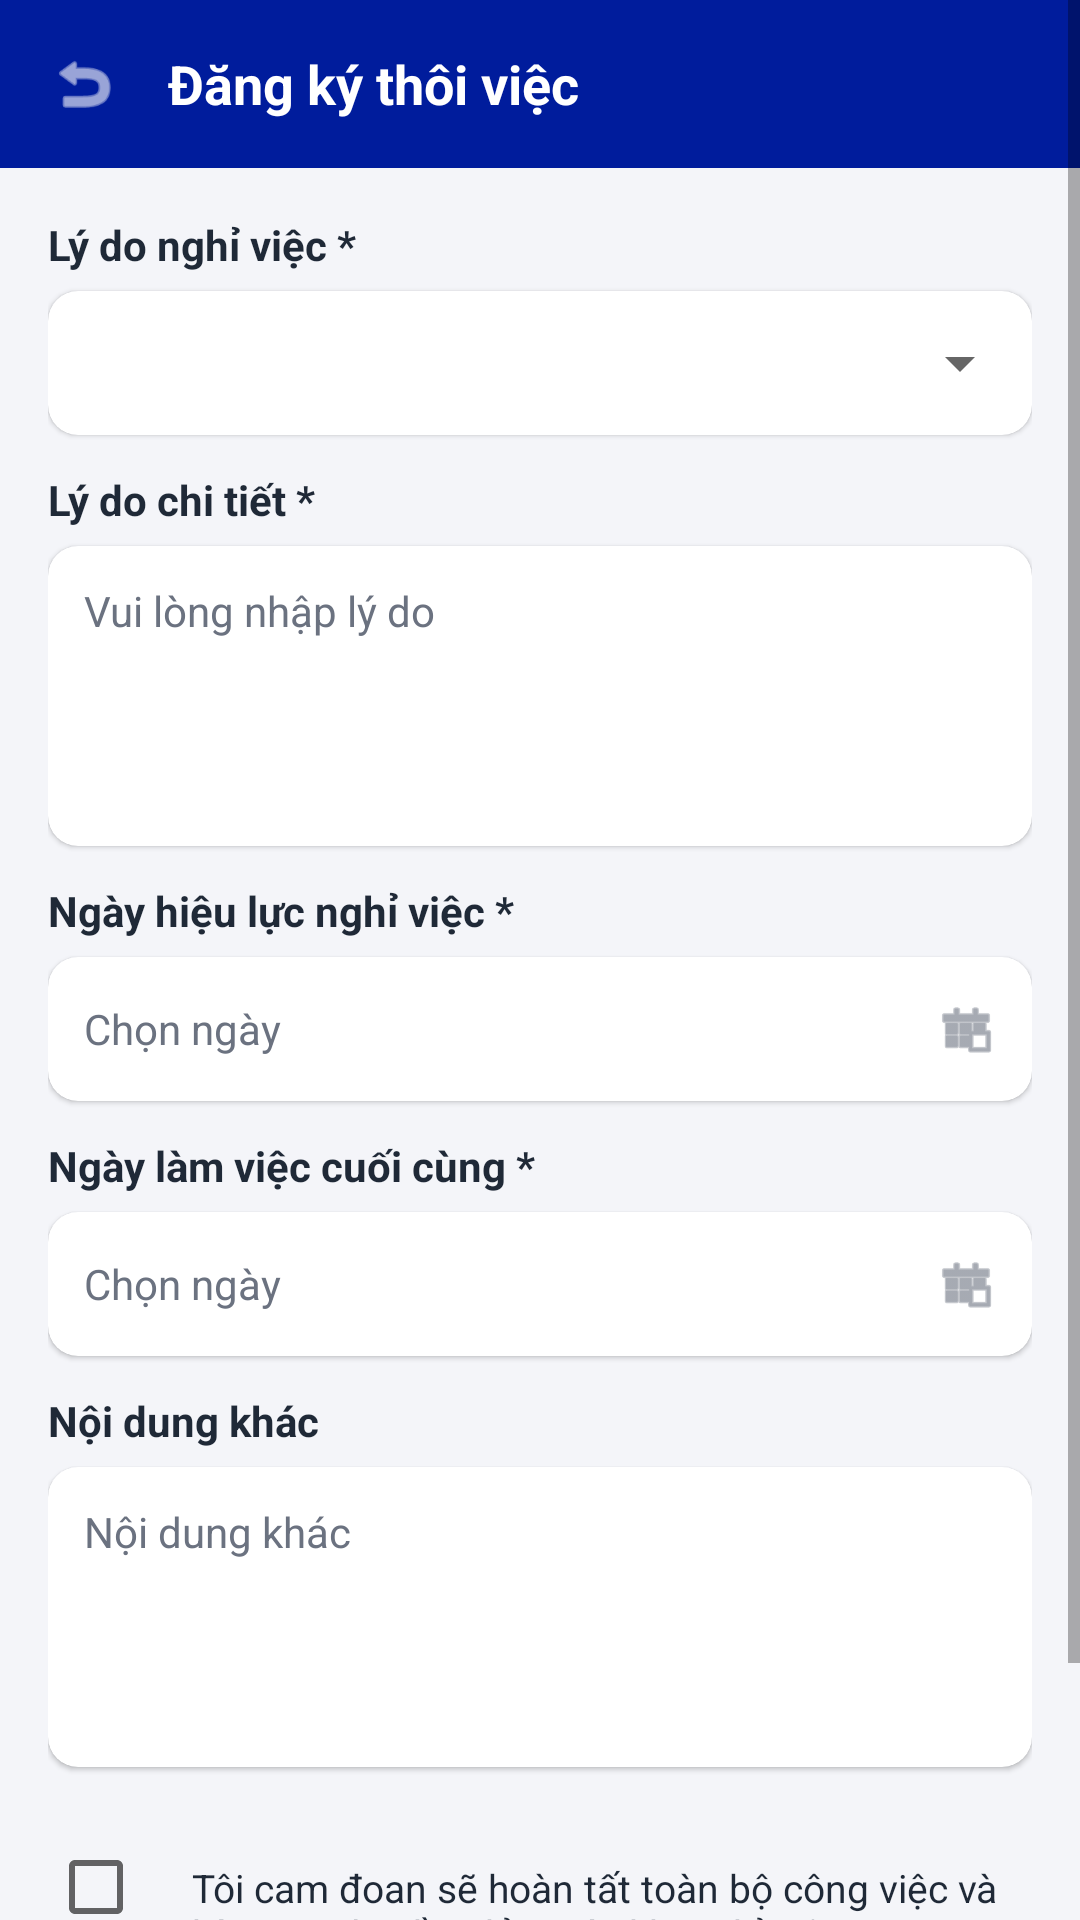

Named icons in this screenshot (1080x1920) and their bounding boxes, [x1=x1, y1=y1, x2=x2, y2=y2]:
revert: [x1=59, y1=61, x2=111, y2=108]
today: [x1=942, y1=1007, x2=991, y2=1053], [x1=942, y1=1262, x2=991, y2=1308]
